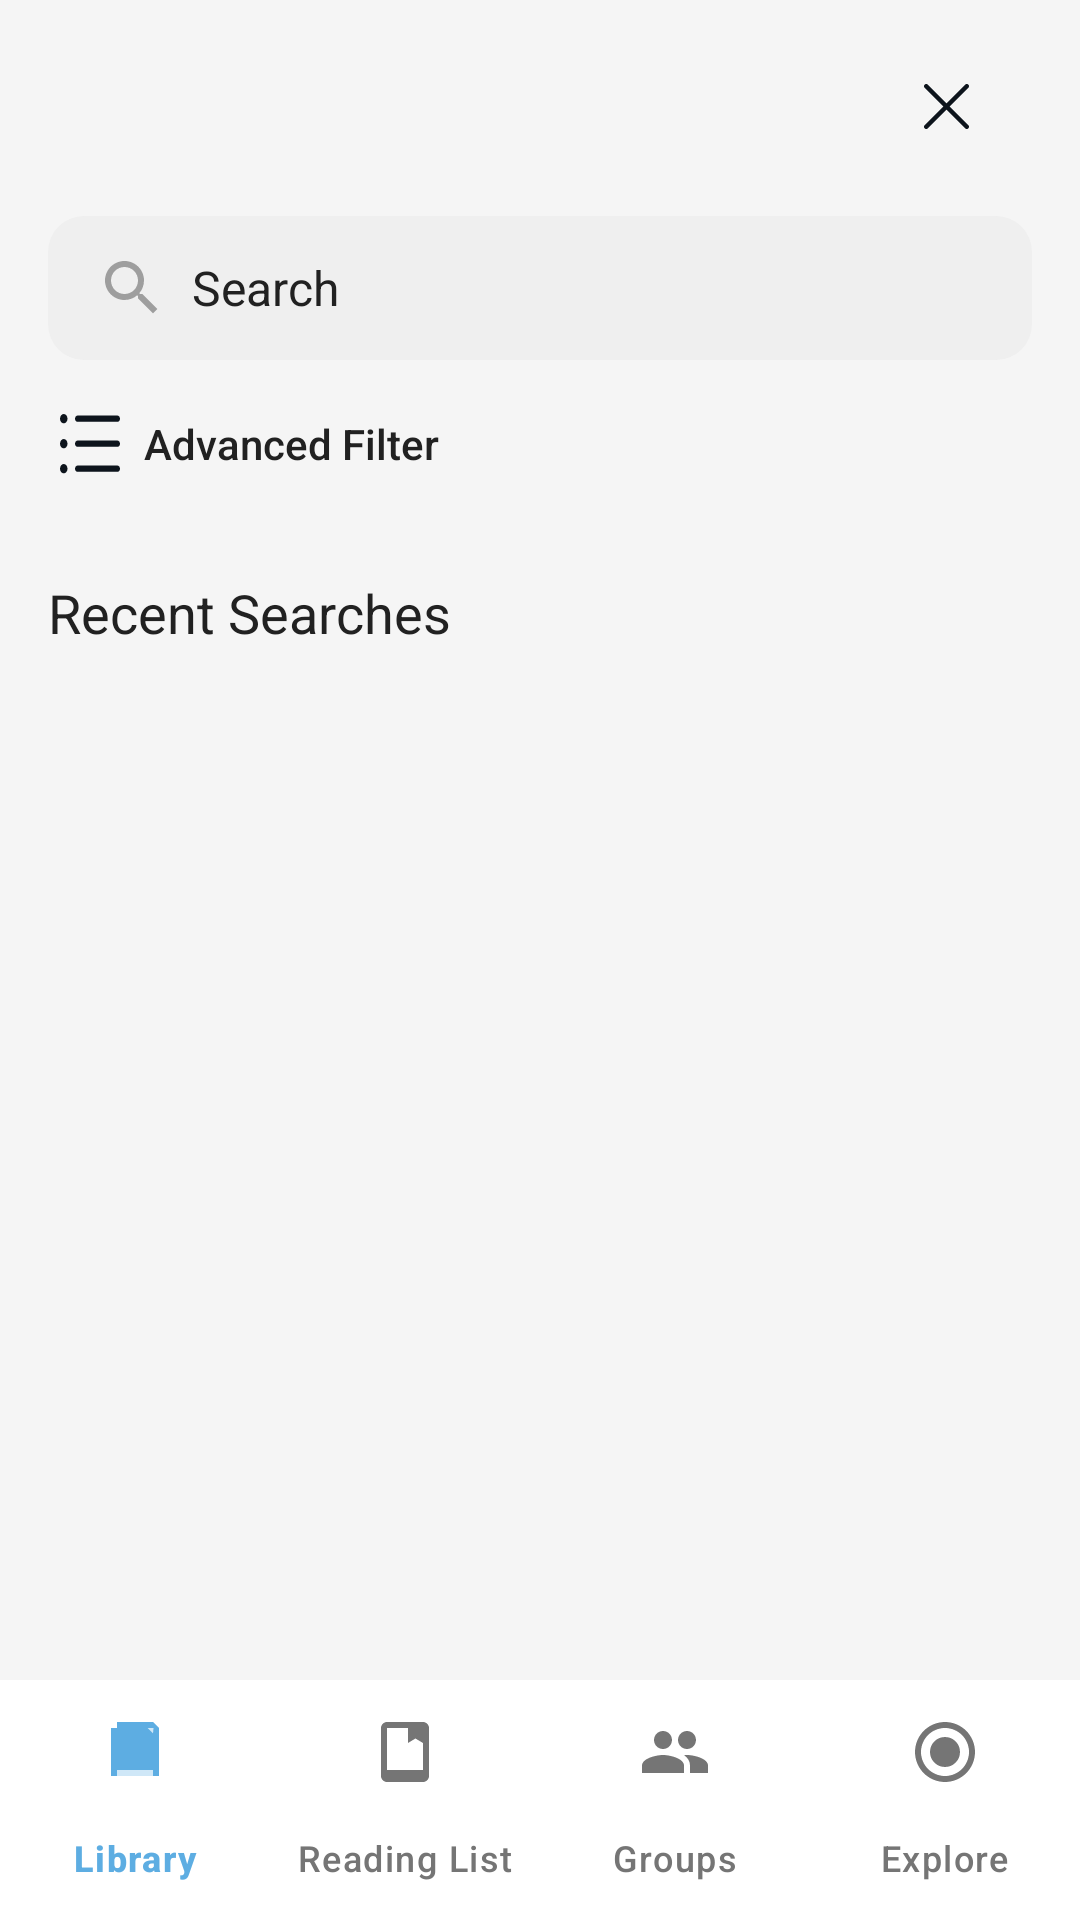

Named icons in this screenshot (1080w x 1920h) and their bounding boxes, (x1, y1, x2, y2):
Close: (924, 84, 969, 129)
